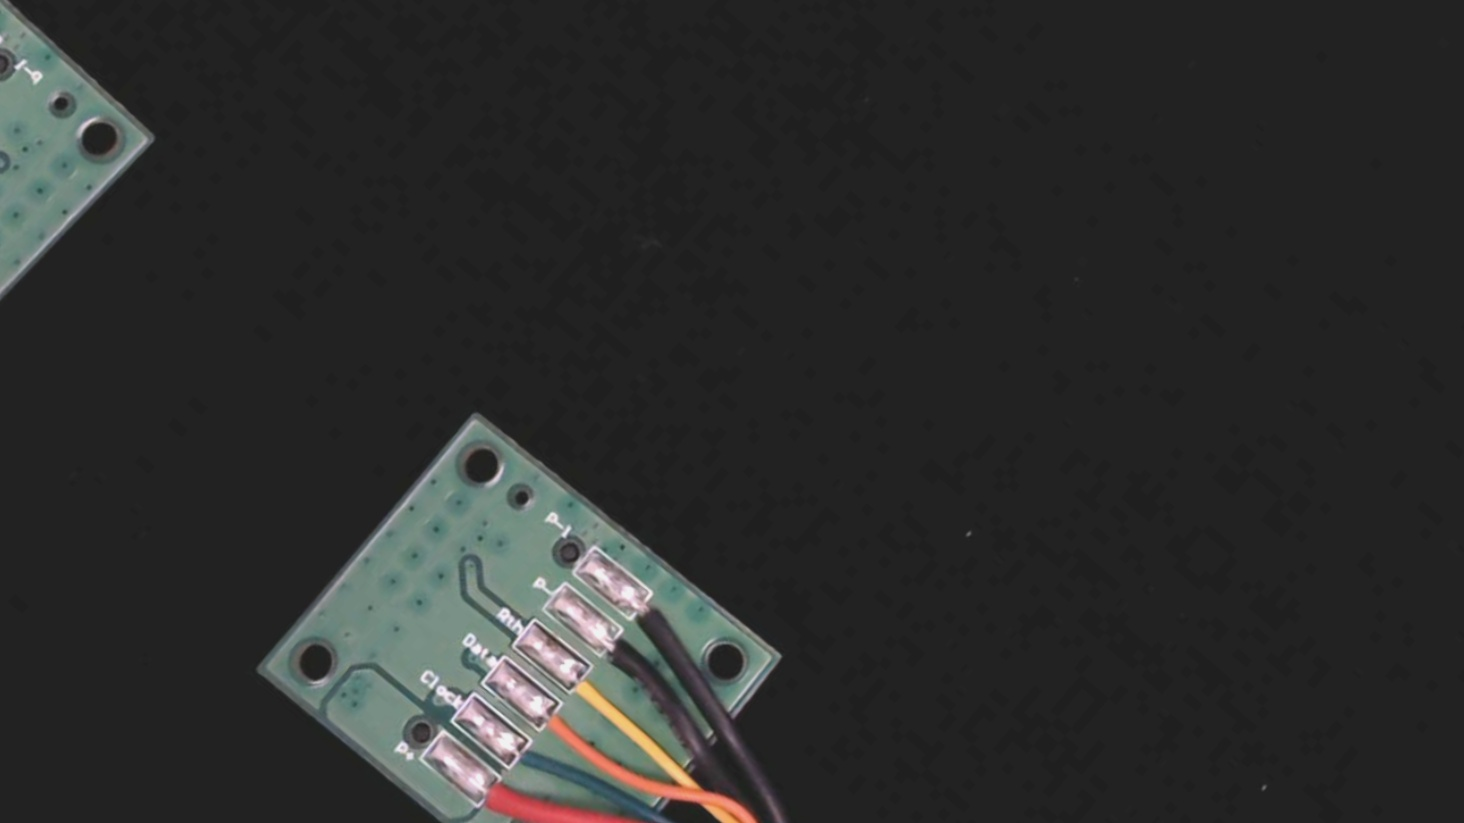Black: (582, 615, 668, 695)
Black1: (613, 579, 700, 660)
Green: (492, 727, 576, 806)
Orange: (524, 690, 602, 765)
Red: (459, 765, 544, 823)
Yellow: (551, 653, 639, 737)
